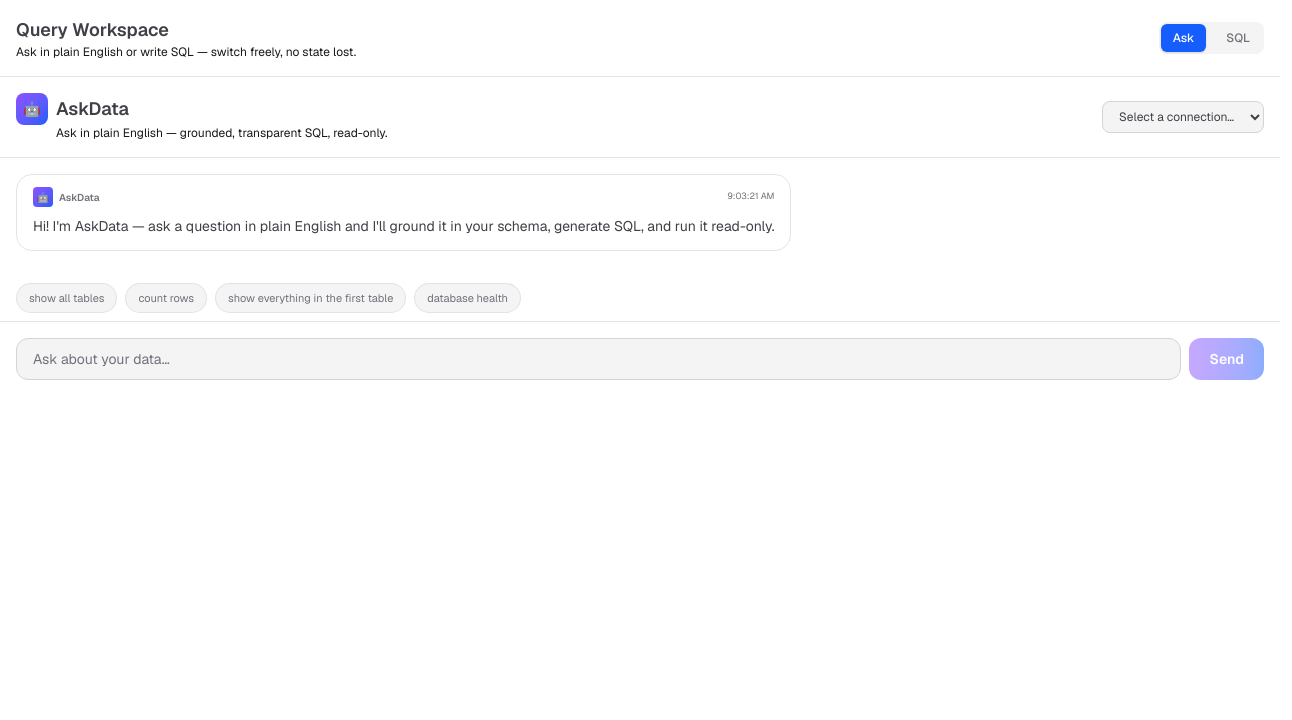
Scenario: QueryWorkspaceInner › applies an in-shell handoff from AskData and switches to SQL mode without navigation
The image size is (1292, 720).
Type "q" into the field with placeholder "Ask about your data…" at {"x": 599, "y": 359}, box [16, 338, 1182, 380]
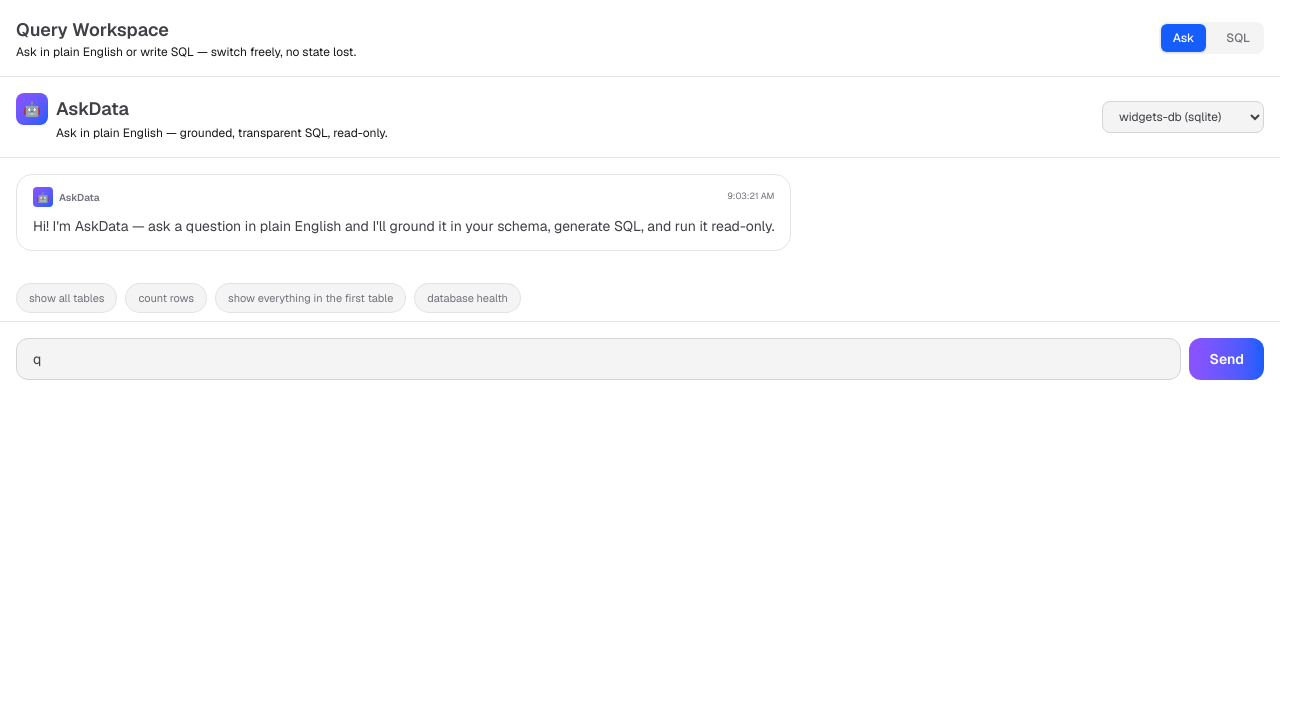
Click the button "Send" at {"x": 1227, "y": 359}, box [1190, 338, 1264, 380]
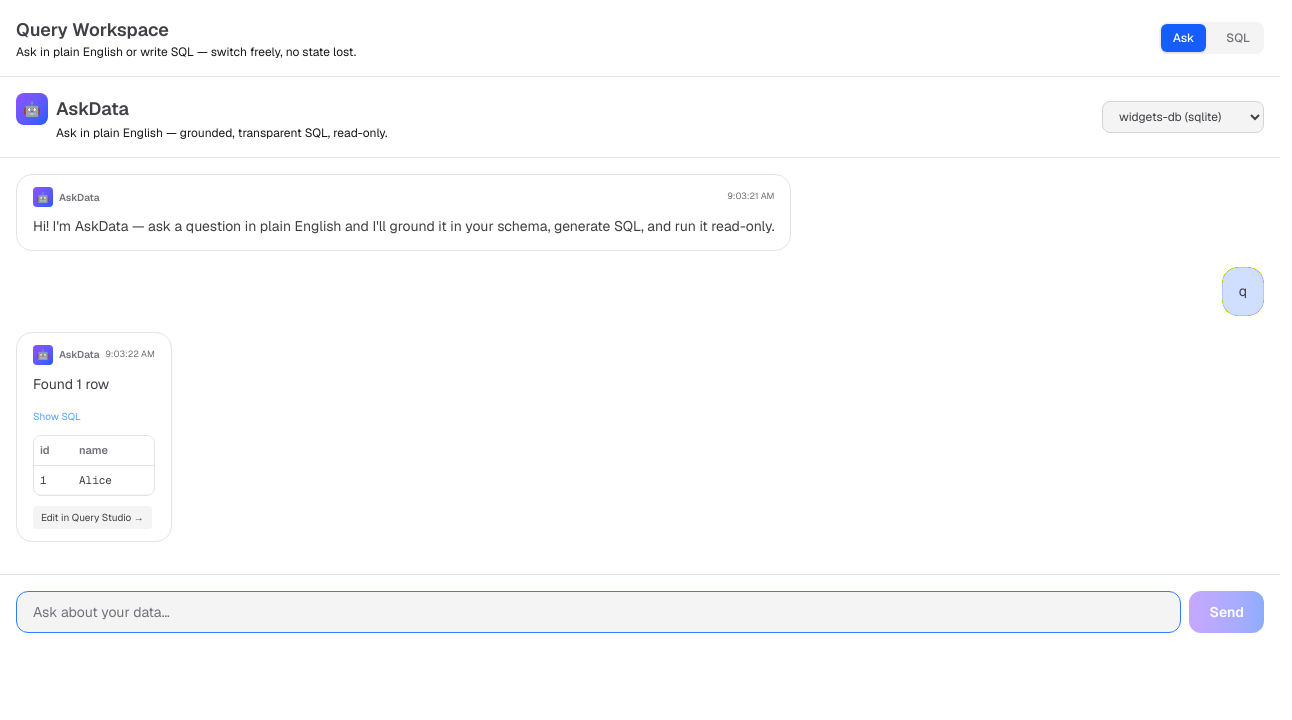
Result: the text "Found 1 row" is shown at [33, 374, 109, 392]
Click the button "Show SQL" at {"x": 57, "y": 417}, box [33, 409, 81, 424]
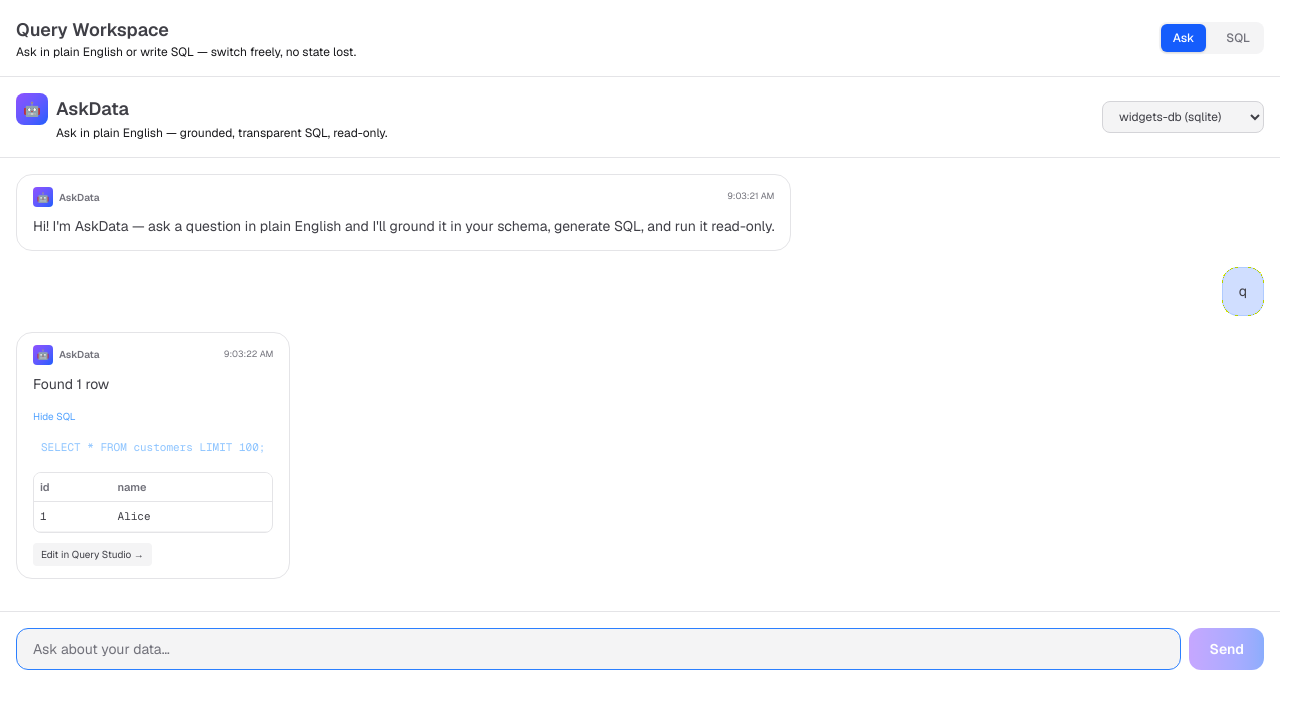
Click the button "Edit in Query Studio →" at {"x": 92, "y": 554}, box [33, 543, 152, 566]
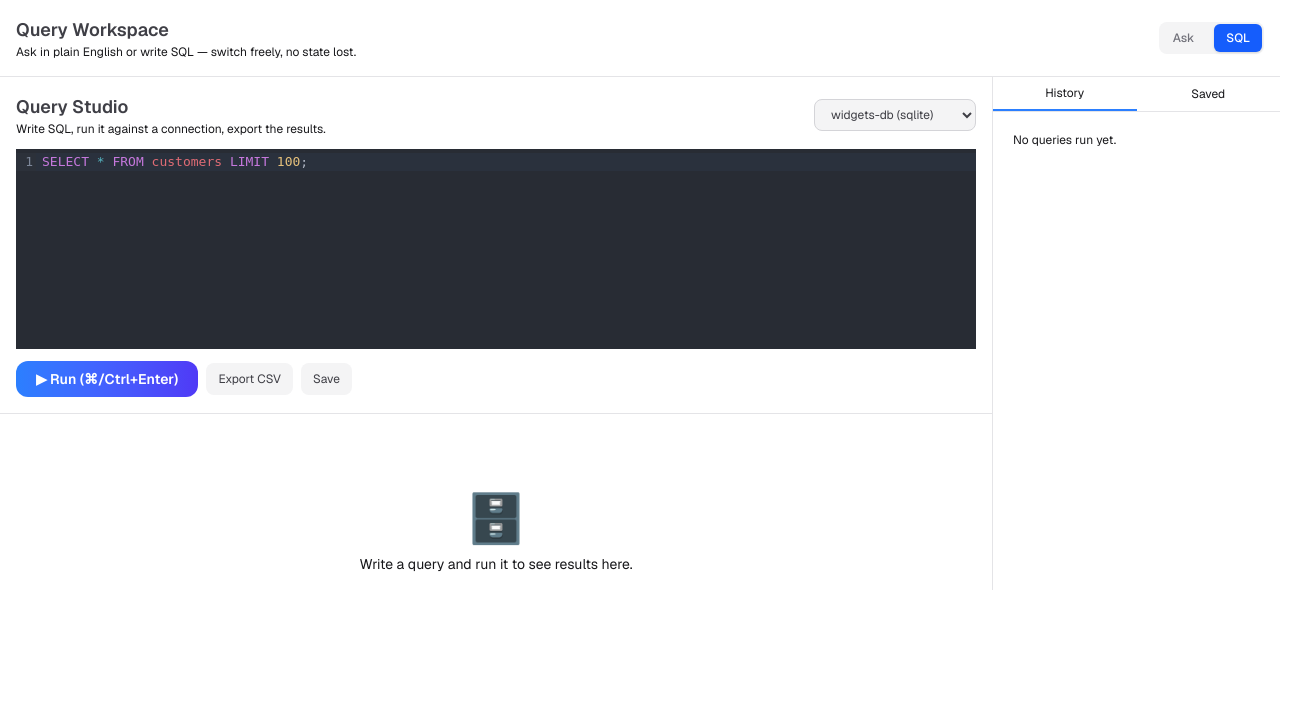
Result: the field with class "cm-content" reads "SELECT * FROM customers LIMIT 100;" at [36, 153, 976, 171]
Result: the heading "Query Studio" is shown at [16, 95, 128, 118]
